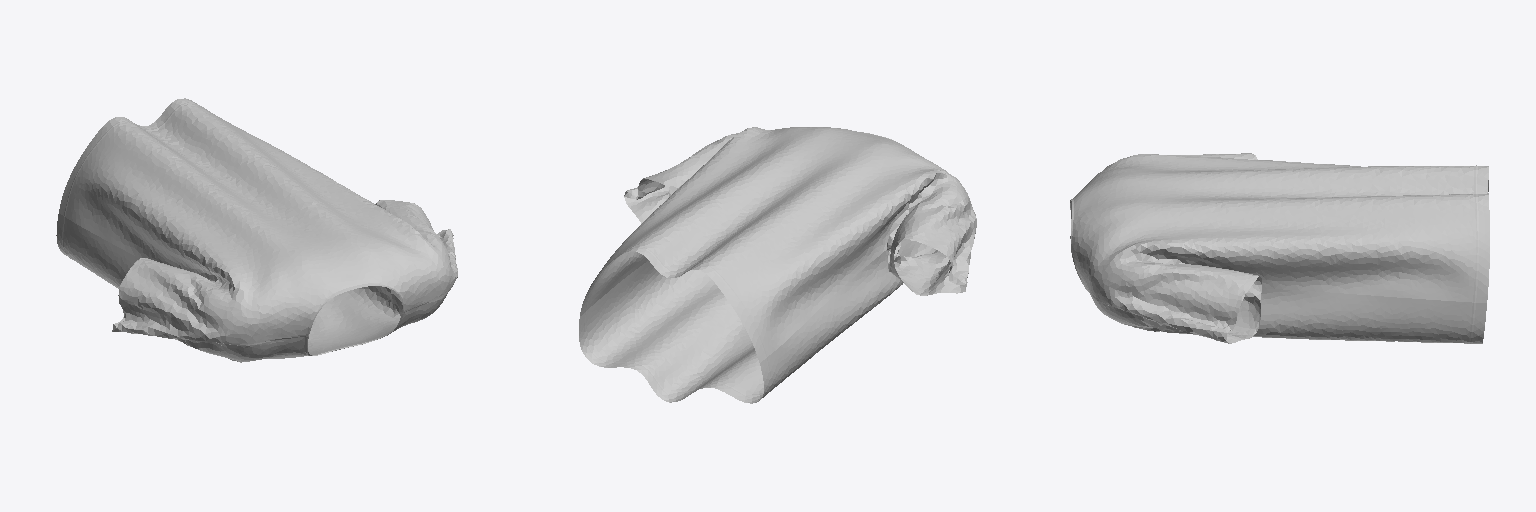
The model's file is garment_path.obj.
3 renders of one model, left to right at view 1: azimuth 30°, elevation 25°; view 2: azimuth 150°, elevation 25°; view 3: azimuth 270°, elevation 25°, orthographic.
Size of the model in its own units: 0.6359 by 0.2643 by 0.6774.